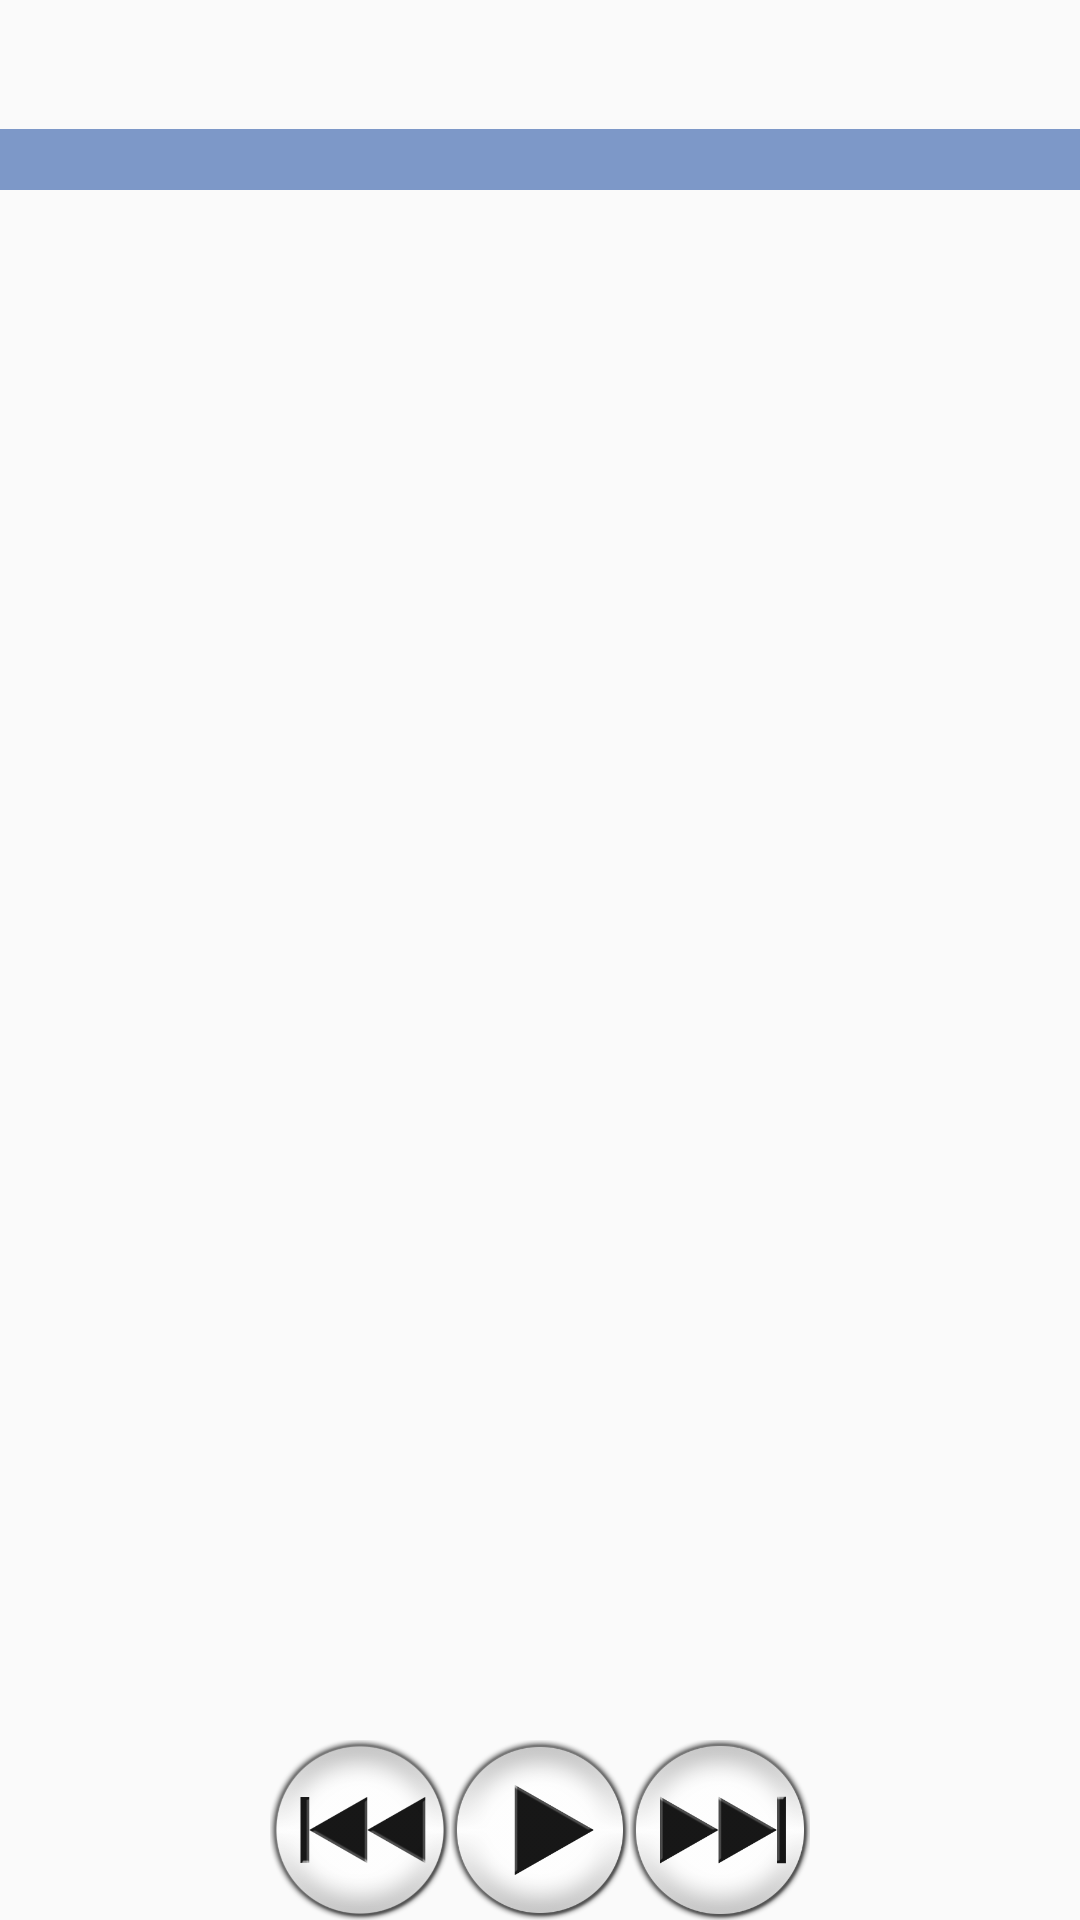

Point at icon controls on the screen. Image size 1080*1920, points as point (x, y).
next: point (720, 1830)
play: point (540, 1830)
previous: point (360, 1830)
